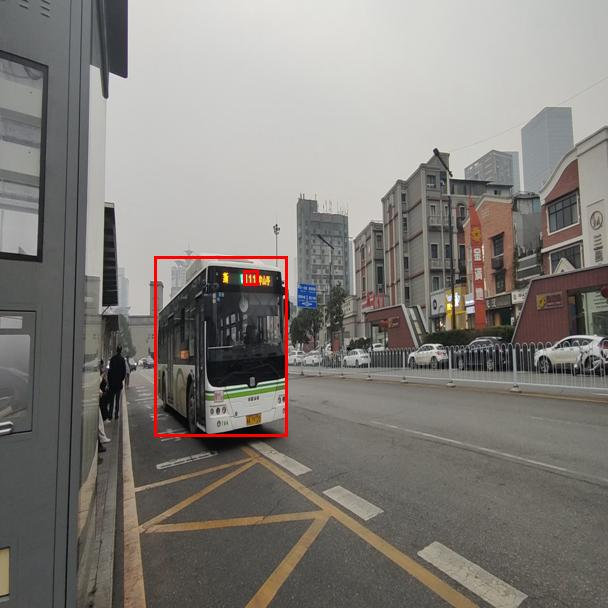bus: (154, 256, 287, 436)
screen: (243, 270, 258, 285)
